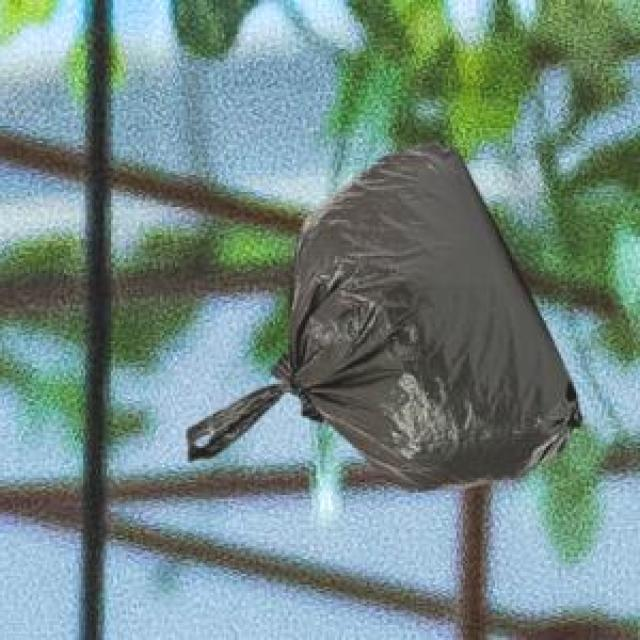Trashbag: (180, 136, 589, 498)
